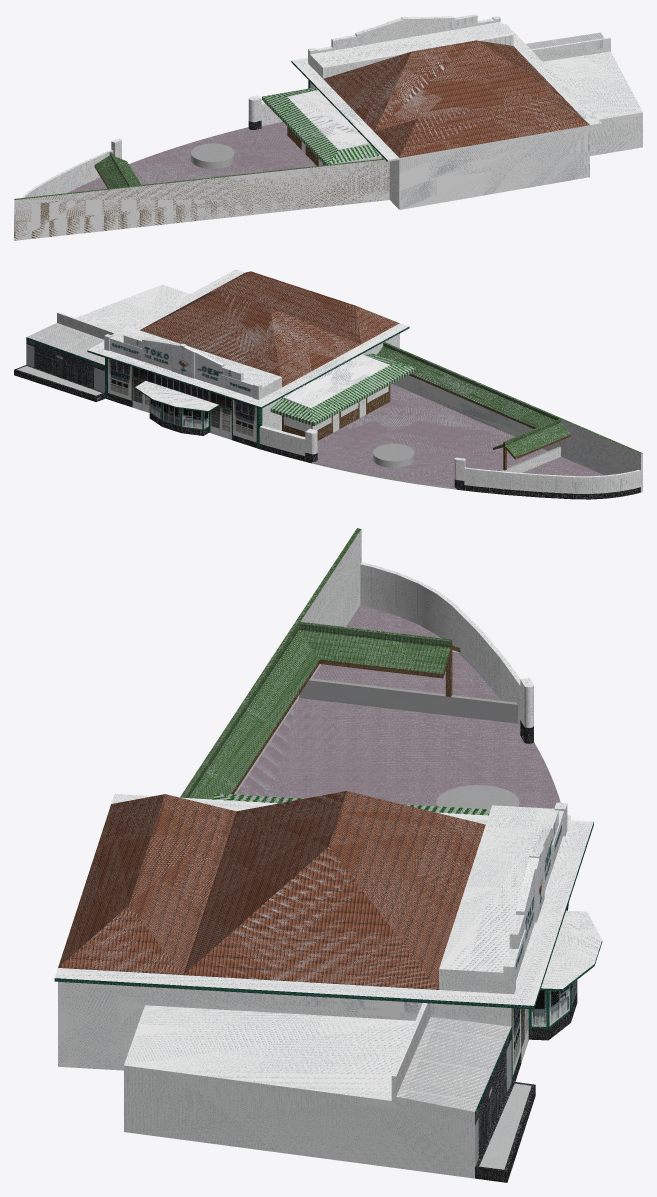
Rendered from 6-Toko Oen.dae.
3 views of the same model, one above another, from view 1: azimuth 30°, elevation 25°; view 2: azimuth 150°, elevation 25°; view 3: azimuth 270°, elevation 25° (orthographic). The views are drawn at different scales.
Visible parts, largest first — view 1: W315s (×9); view 2: W315s (×30); view 3: W315s (×16).
Part boxes in pixels (box(x1,y1,x2,y2)): W315s (×9): box(14, 14, 642, 240); W315s (×30): box(14, 269, 642, 499); W315s (×16): box(54, 528, 602, 1182).
Bounding box in the file's own units: 2197 × 881 × 321.
